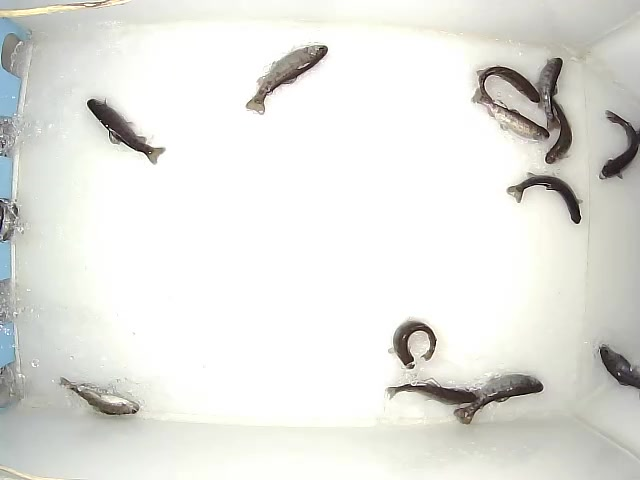fish: (244, 43, 329, 116), (86, 95, 167, 167), (453, 372, 544, 426), (471, 87, 551, 142), (506, 171, 585, 226), (56, 375, 141, 417), (536, 81, 573, 166), (470, 64, 541, 105), (598, 108, 638, 180), (386, 317, 437, 371), (385, 379, 479, 405), (535, 56, 564, 131), (598, 342, 640, 390)
